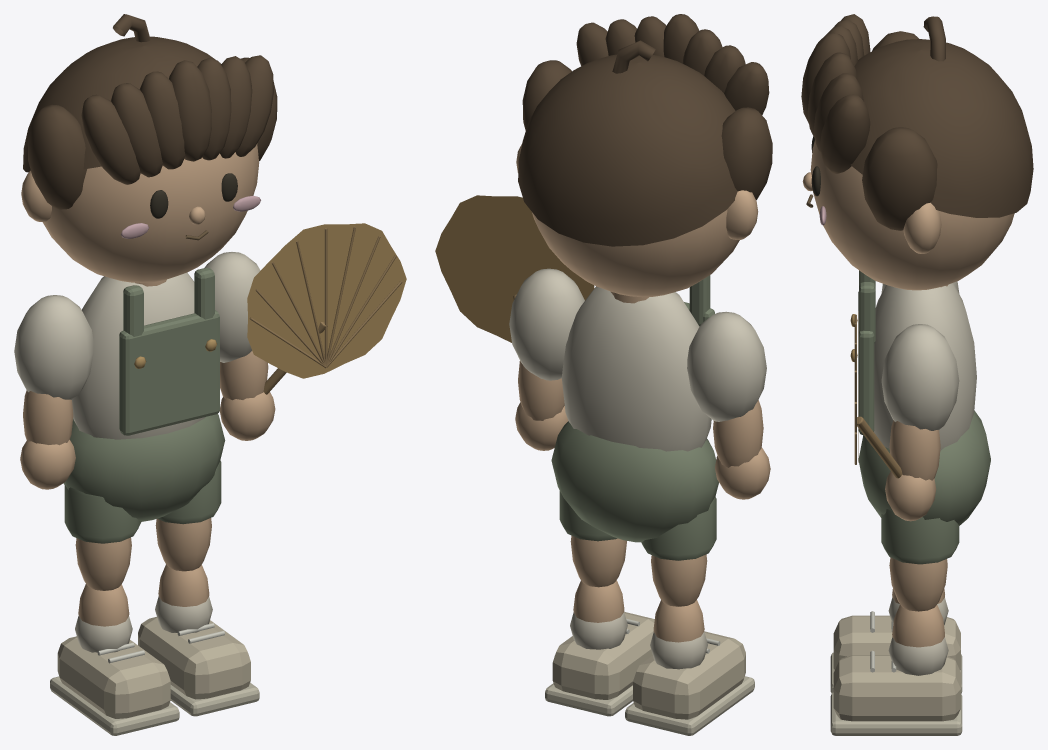
Rendered from visitor-fan.glb.
The picture shows the model from 3 angles, left to right: view 1: azimuth 30°, elevation 25°; view 2: azimuth 150°, elevation 25°; view 3: azimuth 270°, elevation 25°; orthographic projection.
Visible parts, largest first — view 1: HeadPivot__RT_ExportPalette_0.720_0.000, BodyPivot__RT_ExportPalette_0.720_0.000, Outfit_Fan__RT_ExportPalette_0.720_0.000_fan, Knee_L__RT_ExportPalette_0.720_0.000, Knee_R__RT_ExportPalette_0.720_0.000, Sleeve_L, Leg_L__RT_ExportPalette_0.720_0.000, Arm_L__RT_ExportPalette_0.720_0.000, Arm_R__RT_ExportPalette_0.720_0.000, Leg_R__RT_ExportPalette_0.720_0.000, Sleeve_R, Face_Eyes__RT_ExportPalette_0.720_0.000; view 2: HeadPivot__RT_ExportPalette_0.720_0.000, BodyPivot__RT_ExportPalette_0.720_0.000, Outfit_Fan__RT_ExportPalette_0.720_0.000_fan, Knee_L__RT_ExportPalette_0.720_0.000, Knee_R__RT_ExportPalette_0.720_0.000, Sleeve_L, Sleeve_R, Leg_L__RT_ExportPalette_0.720_0.000, Arm_L__RT_ExportPalette_0.720_0.000, Arm_R__RT_ExportPalette_0.720_0.000, Leg_R__RT_ExportPalette_0.720_0.000; view 3: HeadPivot__RT_ExportPalette_0.720_0.000, BodyPivot__RT_ExportPalette_0.720_0.000, Knee_R__RT_ExportPalette_0.720_0.000, Sleeve_R, Leg_R__RT_ExportPalette_0.720_0.000, Arm_R__RT_ExportPalette_0.720_0.000, Knee_L__RT_ExportPalette_0.720_0.000, Outfit_Fan__RT_ExportPalette_0.720_0.000_fan.
Part boxes in pixels (x1=…): HeadPivot__RT_ExportPalette_0.720_0.000: x1=21, y1=14, x2=277, y2=282; BodyPivot__RT_ExportPalette_0.720_0.000: x1=63, y1=268, x2=225, y2=521; Outfit_Fan__RT_ExportPalette_0.720_0.000_fan: x1=247, y1=223, x2=406, y2=394; Knee_L__RT_ExportPalette_0.720_0.000: x1=50, y1=584, x2=179, y2=735; Knee_R__RT_ExportPalette_0.720_0.000: x1=138, y1=564, x2=259, y2=716; Sleeve_L: x1=14, y1=295, x2=93, y2=399; Leg_L__RT_ExportPalette_0.720_0.000: x1=64, y1=484, x2=141, y2=590; Arm_L__RT_ExportPalette_0.720_0.000: x1=20, y1=390, x2=75, y2=489; Arm_R__RT_ExportPalette_0.720_0.000: x1=219, y1=351, x2=275, y2=440; Leg_R__RT_ExportPalette_0.720_0.000: x1=155, y1=460, x2=221, y2=571; Sleeve_R: x1=204, y1=252, x2=260, y2=362; Face_Eyes__RT_ExportPalette_0.720_0.000: x1=150, y1=173, x2=237, y2=218; HeadPivot__RT_ExportPalette_0.720_0.000: x1=516, y1=14, x2=772, y2=297; BodyPivot__RT_ExportPalette_0.720_0.000: x1=551, y1=275, x2=718, y2=542; Outfit_Fan__RT_ExportPalette_0.720_0.000_fan: x1=435, y1=195, x2=594, y2=342; Knee_L__RT_ExportPalette_0.720_0.000: x1=625, y1=600, x2=754, y2=735; Knee_R__RT_ExportPalette_0.720_0.000: x1=545, y1=580, x2=654, y2=716; Sleeve_L: x1=687, y1=311, x2=766, y2=421; Sleeve_R: x1=509, y1=268, x2=584, y2=380; Leg_L__RT_ExportPalette_0.720_0.000: x1=641, y1=496, x2=716, y2=606; Arm_L__RT_ExportPalette_0.720_0.000: x1=713, y1=400, x2=770, y2=499; Arm_R__RT_ExportPalette_0.720_0.000: x1=515, y1=361, x2=568, y2=450; Leg_R__RT_ExportPalette_0.720_0.000: x1=559, y1=491, x2=626, y2=587; HeadPivot__RT_ExportPalette_0.720_0.000: x1=801, y1=14, x2=1033, y2=290; BodyPivot__RT_ExportPalette_0.720_0.000: x1=850, y1=270, x2=990, y2=525; Knee_R__RT_ExportPalette_0.720_0.000: x1=830, y1=604, x2=962, y2=735; Sleeve_R: x1=881, y1=324, x2=959, y2=430; Leg_R__RT_ExportPalette_0.720_0.000: x1=881, y1=509, x2=959, y2=611; Arm_R__RT_ExportPalette_0.720_0.000: x1=885, y1=420, x2=940, y2=521; Knee_L__RT_ExportPalette_0.720_0.000: x1=830, y1=589, x2=962, y2=693; Outfit_Fan__RT_ExportPalette_0.720_0.000_fan: x1=854, y1=311, x2=902, y2=478.
Size of the model in its own units: 0.5022 by 0.9 by 0.2783.
